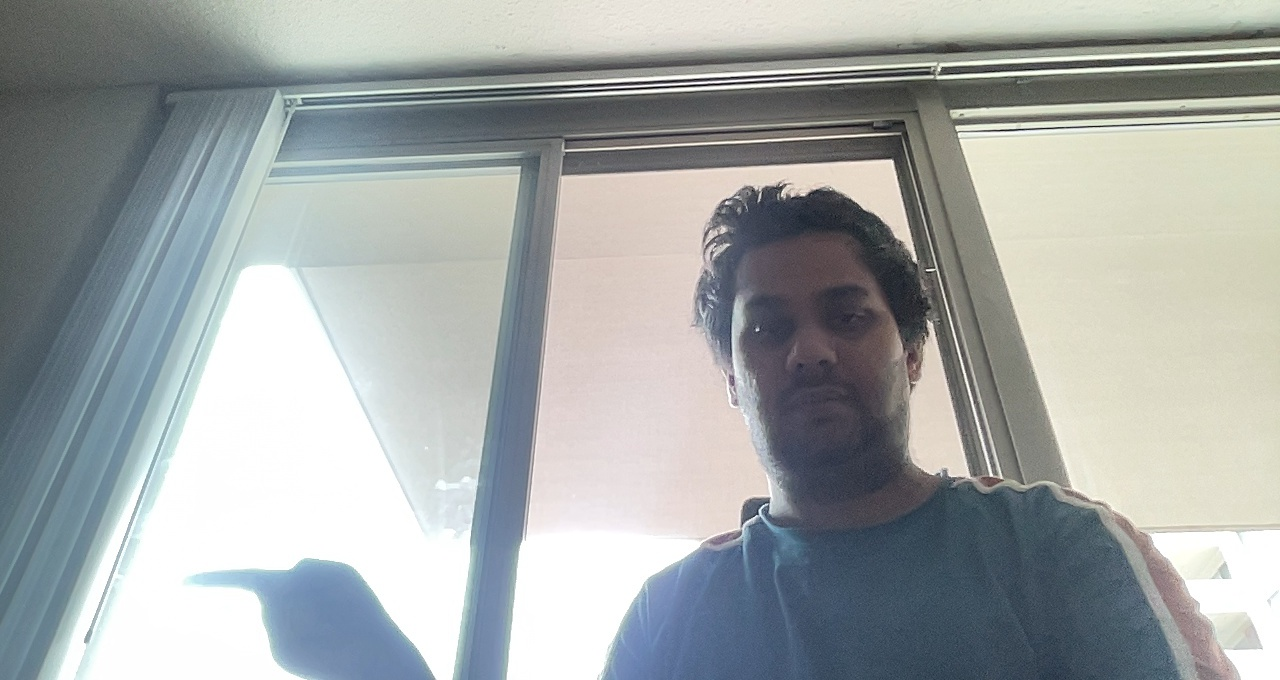fingerright: (178, 551, 429, 677)
